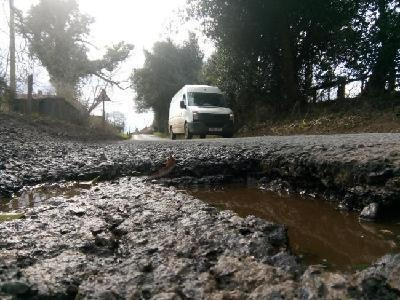pothole: (0, 155, 398, 283)
